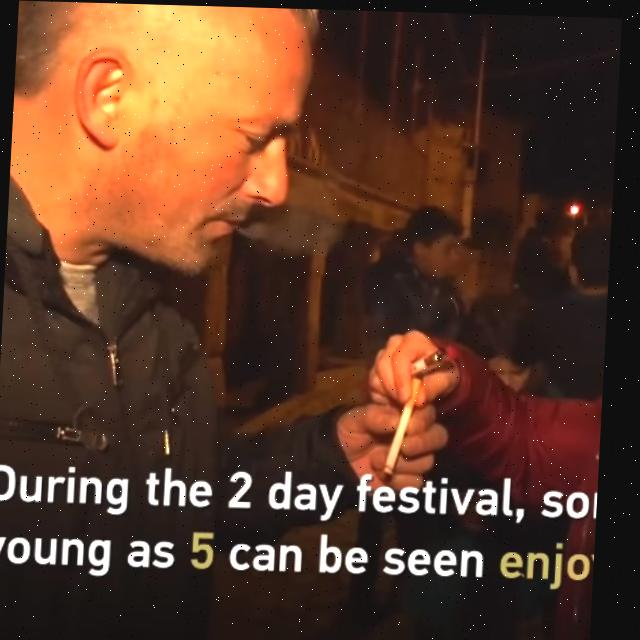cigarette: (386, 375, 427, 475)
